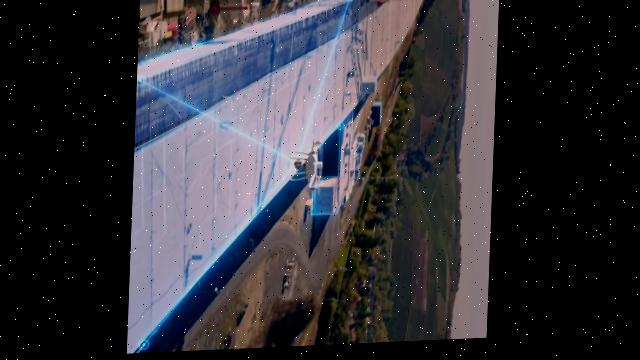drone: (290, 140, 328, 196)
